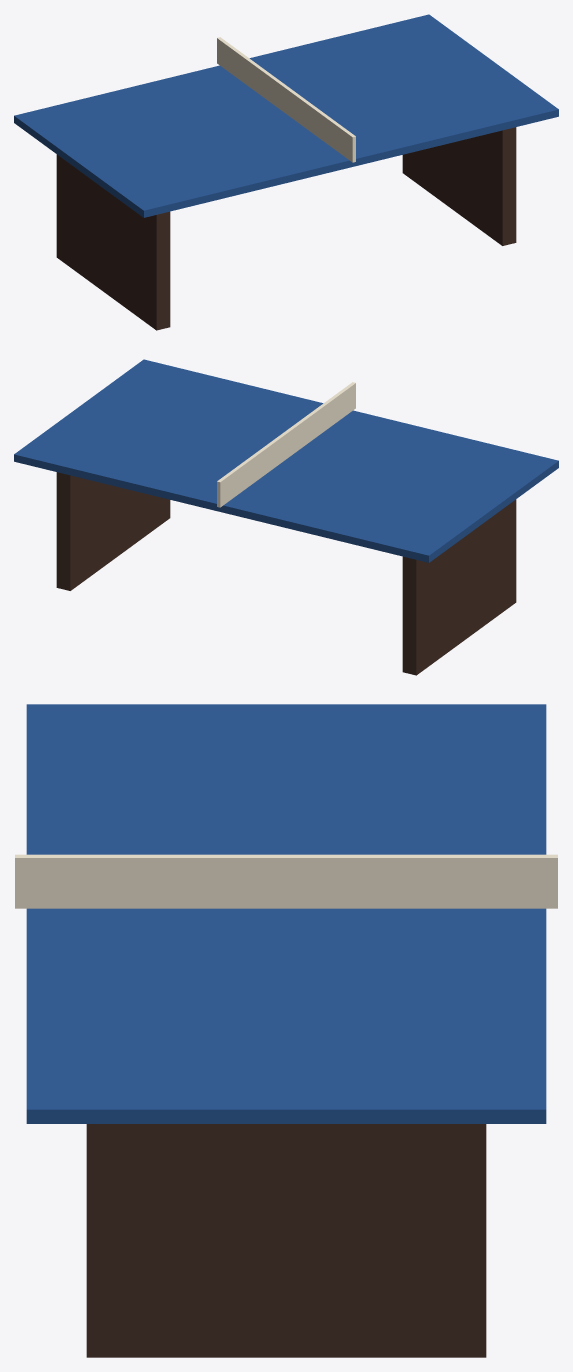
File: ping_pong.glb
The picture shows the model from 3 angles, top to bottom: view 1: azimuth 30°, elevation 25°; view 2: azimuth 150°, elevation 25°; view 3: azimuth 270°, elevation 25°; orthographic projection. The views are drawn at different scales.
Parts seen in each view (by area): view 1: Box1, Box3, Box4, Box2; view 2: Box1, Box3, Box4, Box2; view 3: Box1, Box4, Box2.
Boxes of the visible parts, bbox=[...] form: Box1: bbox=[14, 14, 558, 217]; Box3: bbox=[56, 154, 170, 330]; Box4: bbox=[402, 127, 516, 245]; Box2: bbox=[217, 37, 355, 162]; Box1: bbox=[14, 359, 558, 562]; Box3: bbox=[402, 499, 516, 675]; Box4: bbox=[56, 472, 170, 590]; Box2: bbox=[217, 382, 355, 507]; Box1: bbox=[26, 704, 546, 1123]; Box4: bbox=[86, 1124, 486, 1357]; Box2: bbox=[15, 854, 557, 908].
Size of the model in its own units: 2.4 by 0.9 by 1.36.
